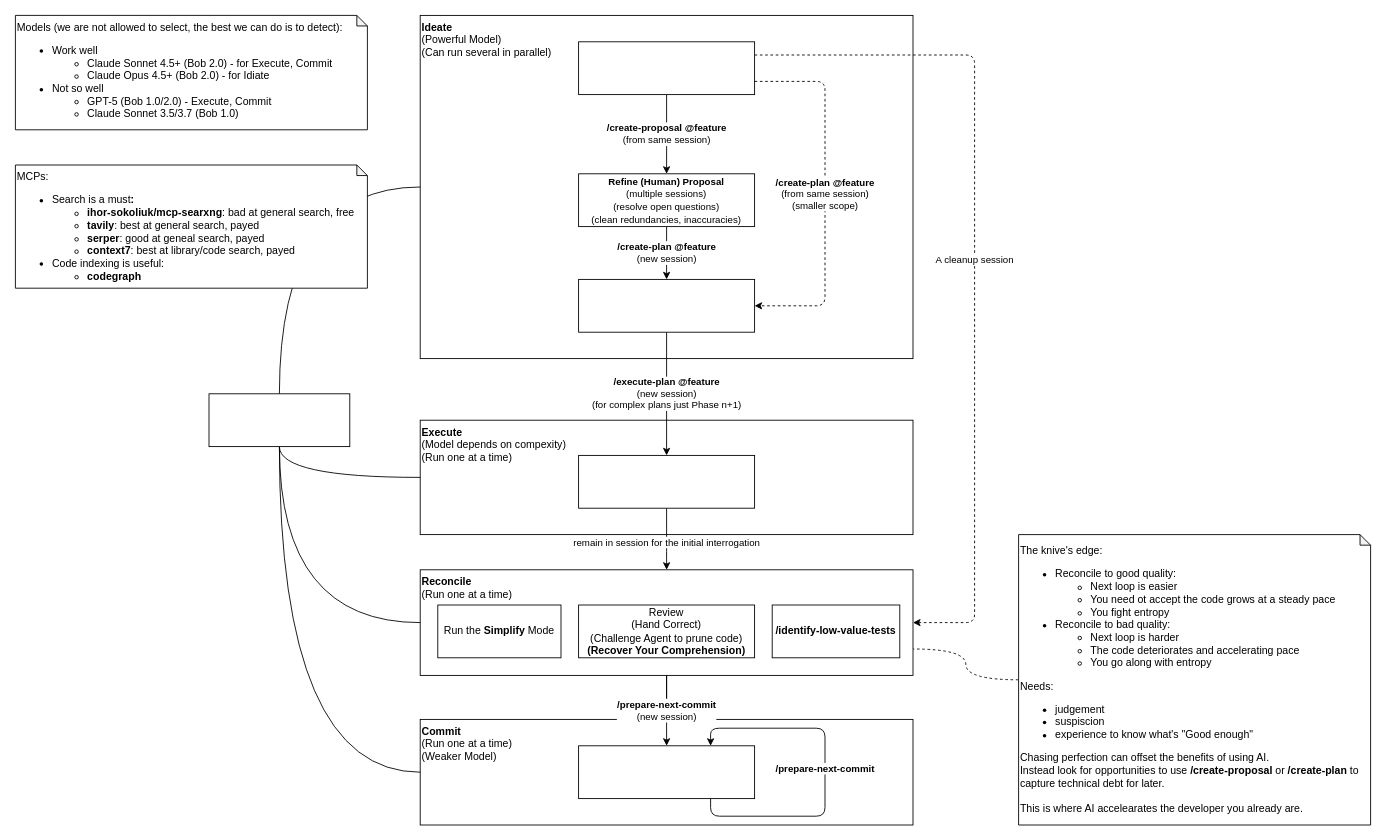
This 1386x840 diagram has some shape labels left out. Each missing label, with the centre of its shape:
Agent Codes (check progress periodically): [666,481]
Communication Style (anti-sichophancy) (prime for research) (model detection): [279,420]
Load Context (May stay pinned for a while): [666,68]
Refine (Agent) Plan (multiple sessions) (resolve open questions): [666,305]
Refine Commit: [666,772]
